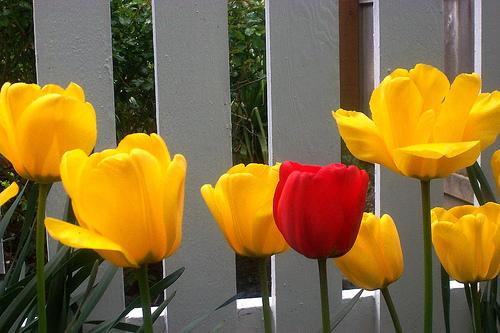tulip: (334, 67, 500, 177), (48, 131, 183, 265), (0, 83, 96, 179), (274, 160, 367, 258), (198, 163, 294, 255), (428, 203, 500, 279)
